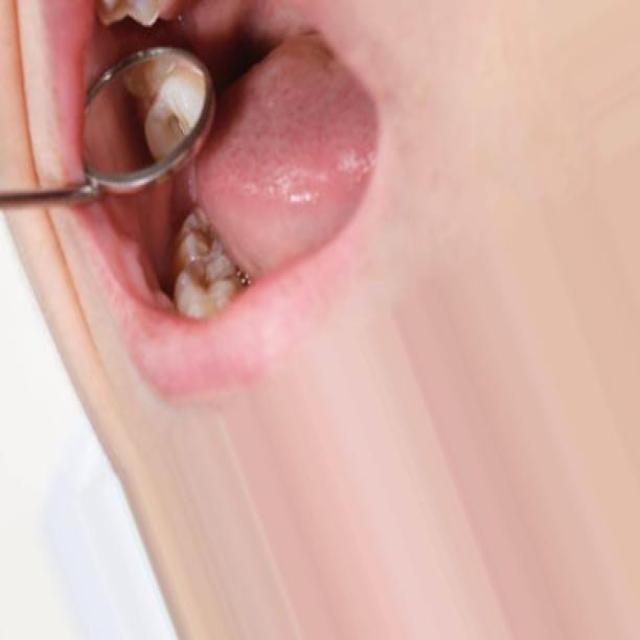caries: (157, 99, 190, 150)
